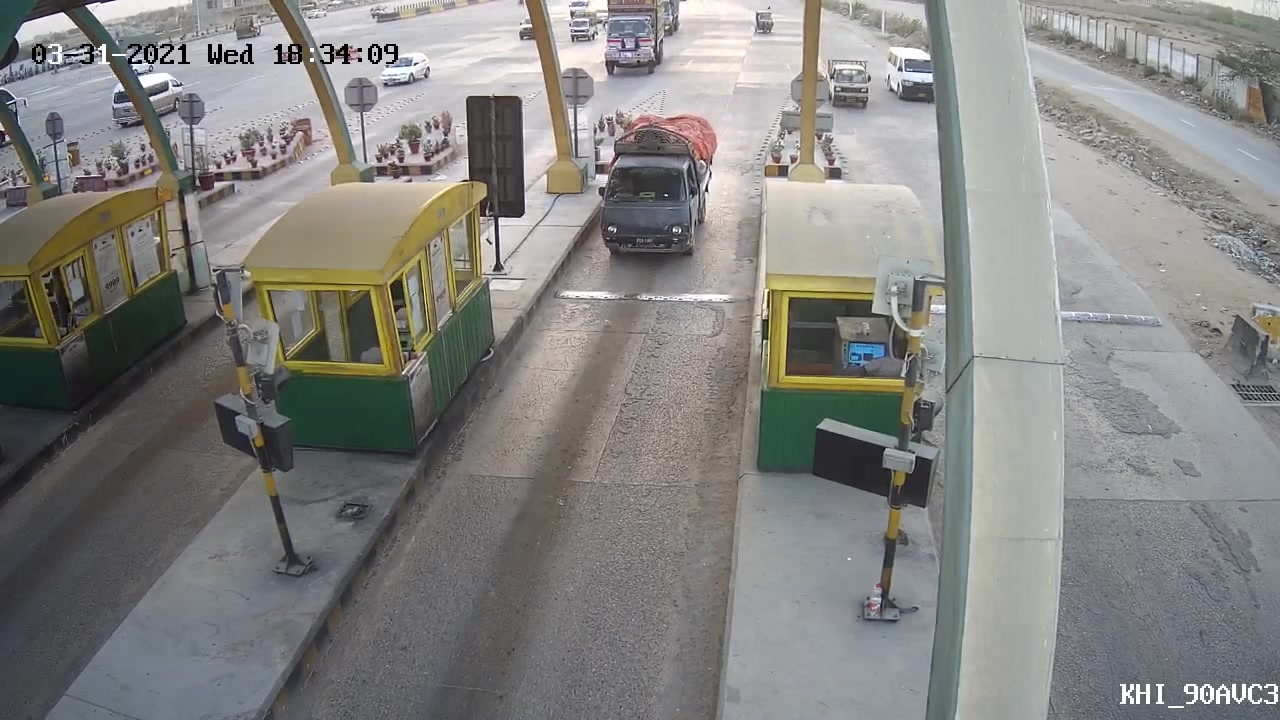F2: (579, 104, 723, 270)
